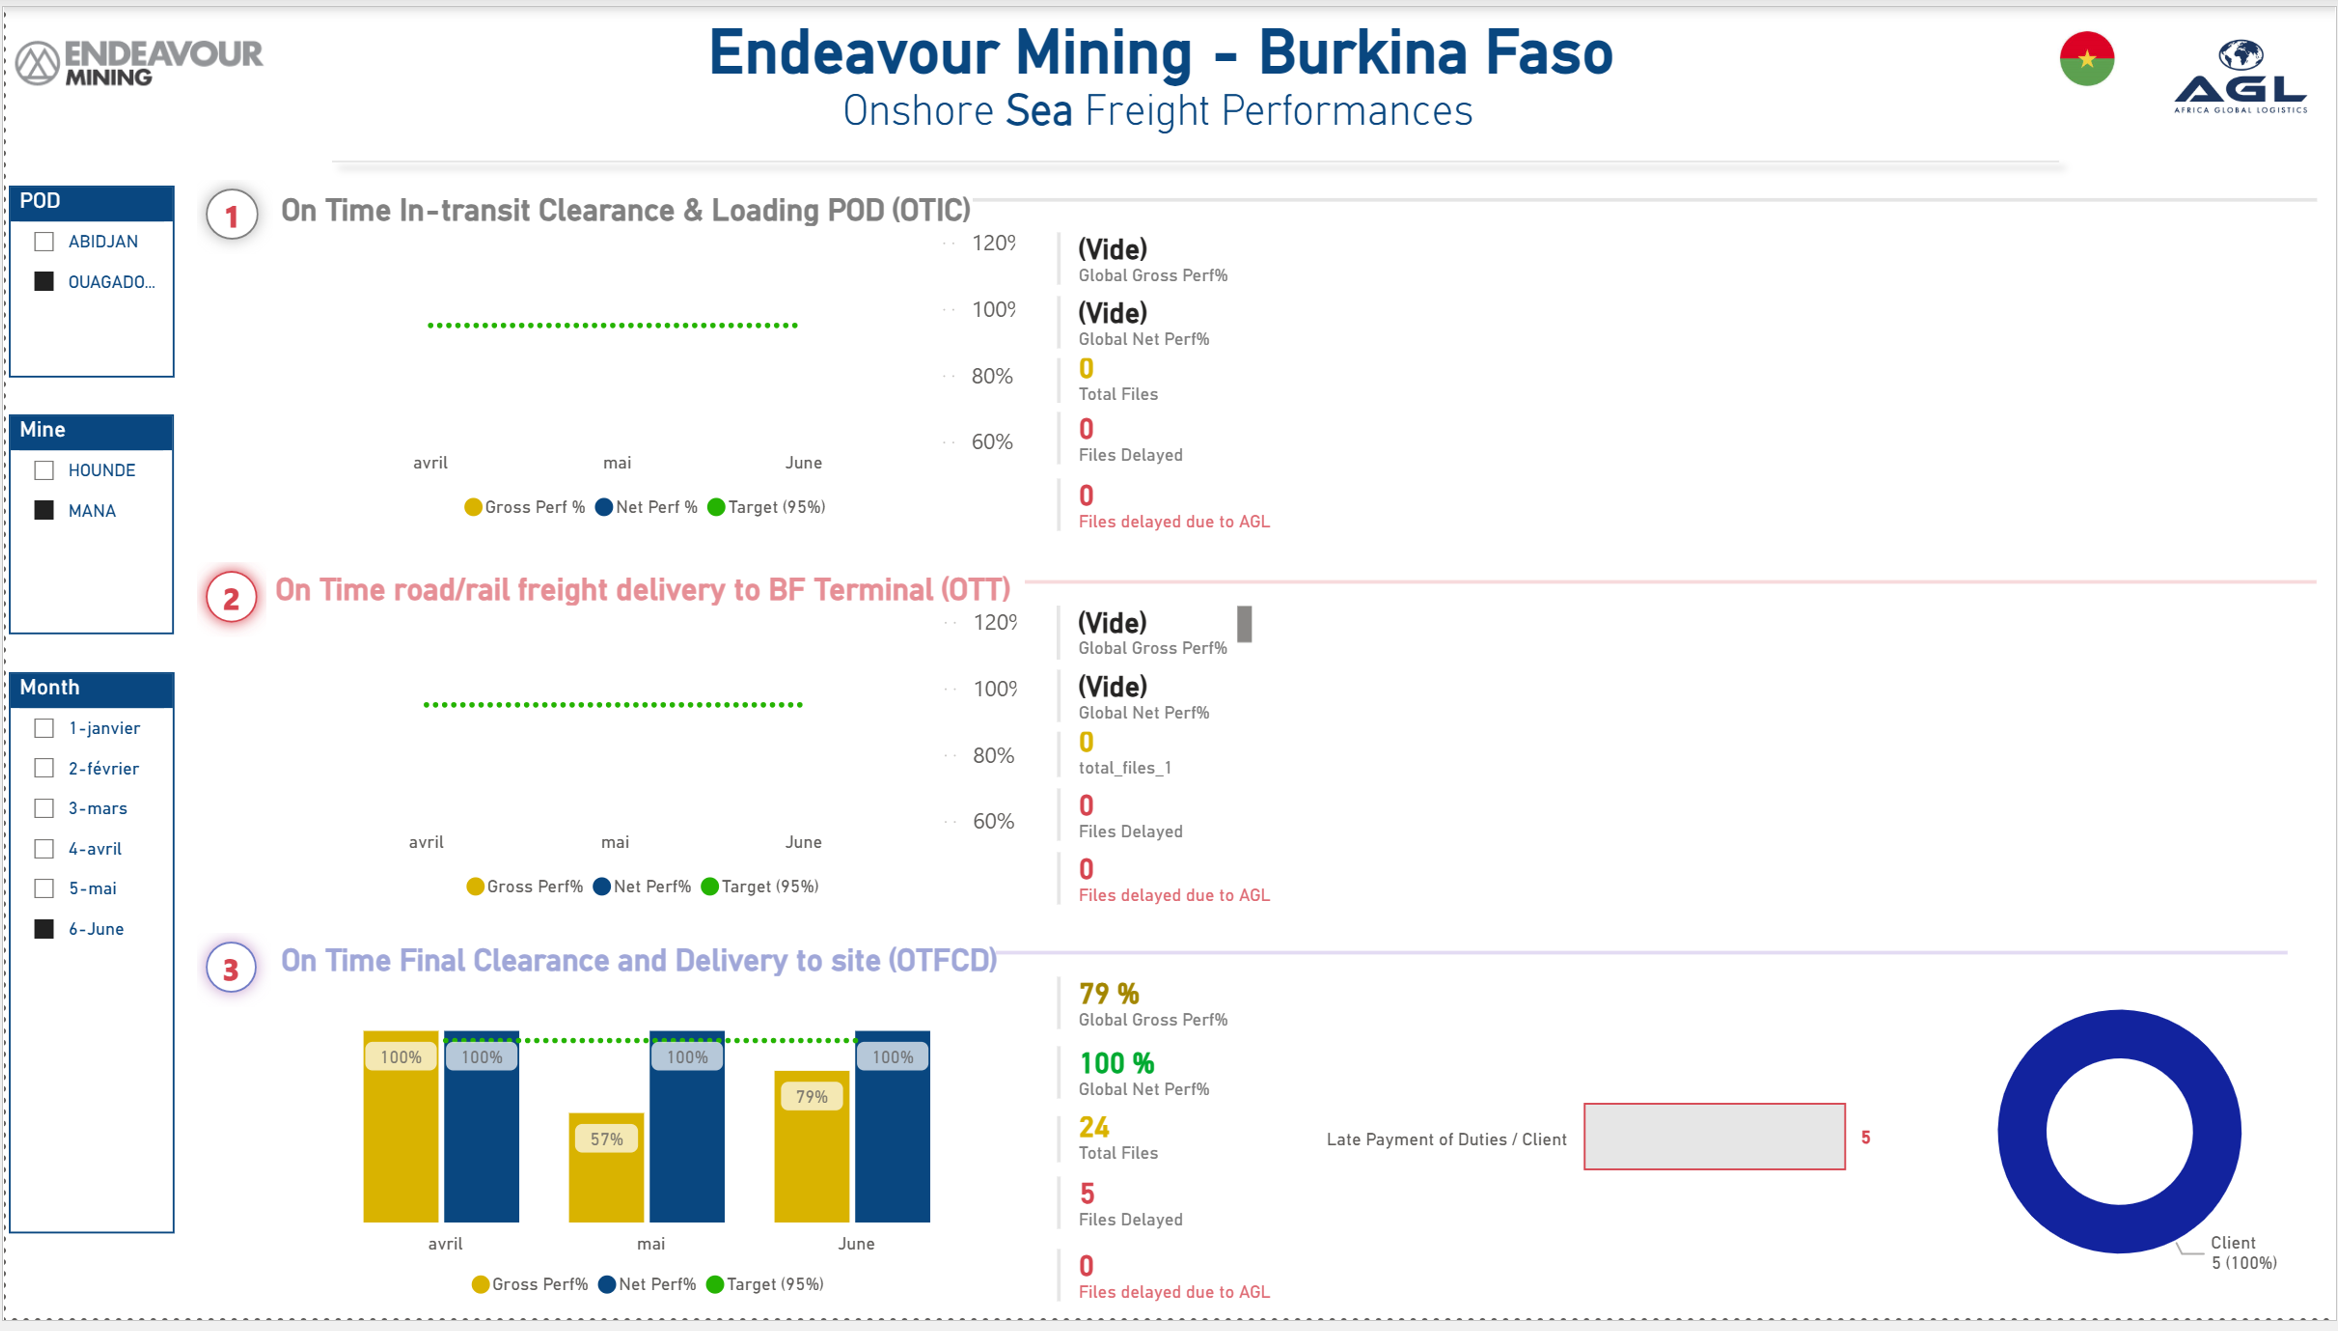

Layout of this report page (visuals, bound fields, positions):
{"tool":"powerbi","page":{"name":"(1) Sea Expéditions","canvas":[1280,720],"ordinal":1},"visuals":[{"type":"lineClusteredColumnComboChart","title":"On Time In-transit Clearance & Loading POD (OTIC)","fields":{"Category":["SeaBF.Month"],"Y":["Avg(SeaBF.Gross Perf % (In Transit))","Avg(SeaBF.Net Perf % (In Transit))"],"Y2":["mesures.target"]},"box":[145.7,101,413,191],"z":0},{"type":"multiRowCard","fields":{"Values":["mesures.total_files"]},"box":[572.2,184.6,117,38.9],"z":1000,"group":"g1"},{"type":"slicer","title":"    Month","fields":{"Values":["SeaBF.Mois_complet"]},"box":[2,365.2,91,308],"z":1000},{"type":"multiRowCard","fields":{"Values":["mesures.total_files_1"]},"box":[572.2,390.2,117,38.9],"z":1000,"group":"g2"},{"type":"multiRowCard","fields":{"Values":["mesures.total_files_3"]},"box":[572.2,600,117,43.2],"z":1000,"group":"g3"},{"type":"multiRowCard","fields":{"Values":["Avg(SeaBF.Gross Perf % (In Transit))"]},"box":[572.2,119,117,38.9],"z":2000,"group":"g1"},{"type":"slicer","title":"Mine","fields":{"Values":["SeaBF.MINE"]},"box":[1.6,224.1,90.6,120.8],"z":2000},{"type":"multiRowCard","fields":{"Values":["Avg(SeaBF.Gross Performance % 2)","Sum(air.Gross %)"]},"box":[572.2,324.5,117,38.9],"z":2000,"group":"g2"},{"type":"multiRowCard","fields":{"Values":["Avg(SeaBF.Gross Performance % 3)"]},"box":[572.2,527,117,43.2],"z":2000,"group":"g3"},{"type":"slicer","title":"POD","fields":{"Values":["SeaBF.Port of Destination"]},"box":[2,98,90.8,105.3],"z":3000},{"type":"multiRowCard","fields":{"Values":["Avg(SeaBF.Net Perf % (In Transit))"]},"box":[572.2,153.5,117,38.9],"z":3000,"group":"g1"},{"type":"multiRowCard","fields":{"Values":["Avg(SeaBF.Net Performance % 2)"]},"box":[572.2,359.1,117,38.9],"z":3000,"group":"g2"},{"type":"multiRowCard","fields":{"Values":["Avg(SeaBF.Net Performance % 3)"]},"box":[572.2,565.4,117,43.2],"z":3000,"group":"g3"},{"type":"clusteredBarChart","fields":{"Category":["SeaBF.Reason for delay1"],"Y":["CountNonNull(SeaBF.Reason for delay1)"]},"box":[719.3,99,311,191],"z":4000},{"type":"multiRowCard","fields":{"Values":["mesures.gross_fail_1"]},"box":[572.2,218.3,117,38.9],"z":4000,"group":"g1"},{"type":"multiRowCard","fields":{"Values":["mesures.gross_fail_2"]},"box":[572.2,423.9,117,38.9],"z":4000,"group":"g2"},{"type":"multiRowCard","fields":{"Values":["mesures.gross_fail_3"]},"box":[572.2,637.4,117,43.2],"z":4000,"group":"g3"},{"type":"donutChart","fields":{"Category":["SeaBF.Delay Responsibility"],"Y":["CountNonNull(SeaBF.Delay Responsibility)"]},"box":[1043,101,236.4,191.1],"z":5000},{"type":"multiRowCard","fields":{"Values":["mesures.net_fail_1"]},"box":[572.2,253.7,129.6,38.9],"z":5000,"group":"g1"},{"type":"multiRowCard","fields":{"Values":["mesures.net_fail_2"]},"box":[572.2,459.4,129.6,38.9],"z":5000,"group":"g2"},{"type":"multiRowCard","fields":{"Values":["mesures.net_fail_3"]},"box":[572.2,676.8,129.6,43.2],"z":5000,"group":"g3"},{"type":"shape","box":[101,92,45,44],"z":6000},{"type":"shape","box":[101,302,44.4,44.4],"z":7000},{"type":"shape","box":[101,504.6,44,44],"z":8000},{"type":"group","id":"g1","title":"Groupe 1","box":[572.2,119,129.6,175.7],"z":9000},{"type":"lineClusteredColumnComboChart","title":"On Time road/rail freight delivery to BF Terminal  (OTT)","fields":{"Category":["SeaBF.Month"],"Y2":["mesures.target"],"Y":["Avg(SeaBF.Gross Performance % 2)","Avg(SeaBF.Net Performance % 2)"]},"box":[143.7,310,417,191],"z":10000},{"type":"group","id":"g2","title":"Groupe 1","box":[572.2,324.5,129.6,173.8],"z":11000},{"type":"clusteredBarChart","fields":{"Category":["SeaBF.Reason for delay2"],"Y":["CountNonNull(SeaBF.Reason for delay2)"]},"box":[718.8,310,312,191],"z":12000},{"type":"donutChart","fields":{"Category":["SeaBF.Delay Responsibility 2"],"Y":["CountNonNull(SeaBF.Delay Responsibility 2)"]},"box":[1043.2,309.3,236,191],"z":13000},{"type":"lineClusteredColumnComboChart","title":"On Time Final Clearance and Delivery to site  (OTFCD)","fields":{"Category":["SeaBF.Month"],"Y2":["mesures.target"],"Y":["Avg(SeaBF.Gross Performance % 3)","Avg(SeaBF.Net Performance % 3)"]},"box":[146.9,514.2,416.2,205.8],"z":14000},{"type":"group","id":"g3","title":"Groupe 1","box":[572.2,527,129.6,193],"z":15000},{"type":"clusteredBarChart","fields":{"Category":["SeaBF.Reasons for Delay 3"],"Y":["CountNonNull(SeaBF.Reasons for Delay 3)"]},"box":[719,514.6,312,205.4],"z":16000},{"type":"donutChart","fields":{"Category":["SeaBF.Delay Responsibility3"],"Y":["CountNonNull(SeaBF.Delay Responsibility3)"]},"box":[1042.6,514.6,236.2,205.4],"z":17000},{"type":"textbox","box":[169,0,941,79],"z":18000},{"type":"image","box":[0,0,146.7,62.5],"z":19000},{"type":"image","box":[1176.5,3.6,103.2,70.6],"z":20000},{"type":"image","box":[1118.5,3.6,48,51.6],"z":21000},{"type":"shape","box":[169.4,77,966.3,18.1],"z":22000},{"type":"shape","box":[530.9,100.8,738.2,12.5],"z":23000},{"type":"shape","box":[558.7,309.1,709.4,15.4],"z":24000},{"type":"shape","box":[544.3,511.7,709.4,15.4],"z":25000}]}

Visuals, with their boxes in screenshot pixels (x1, y1, x2, y2), scaled from the page's 1280x720 canvas onto the 2338x1331 screenshot:
"On Time In-transit Clearance & Loading POD (OTIC)" lineClusteredColumnComboChart: x1=266, y1=187, x2=1021, y2=540
multiRowCard - mesures.total_files: x1=1045, y1=341, x2=1259, y2=413
"    Month" slicer: x1=4, y1=675, x2=170, y2=1244
multiRowCard - mesures.total_files_1: x1=1045, y1=721, x2=1259, y2=793
multiRowCard - mesures.total_files_3: x1=1045, y1=1109, x2=1259, y2=1189
multiRowCard - Avg(SeaBF.Gross Perf % (In Transit)): x1=1045, y1=220, x2=1259, y2=292
"Mine" slicer: x1=3, y1=414, x2=168, y2=638
multiRowCard - Avg(SeaBF.Gross Performance % 2) x Sum(air.Gross %): x1=1045, y1=600, x2=1259, y2=672
multiRowCard - Avg(SeaBF.Gross Performance % 3): x1=1045, y1=974, x2=1259, y2=1054
"POD" slicer: x1=4, y1=181, x2=170, y2=376
multiRowCard - Avg(SeaBF.Net Perf % (In Transit)): x1=1045, y1=284, x2=1259, y2=356
multiRowCard - Avg(SeaBF.Net Performance % 2): x1=1045, y1=664, x2=1259, y2=736
multiRowCard - Avg(SeaBF.Net Performance % 3): x1=1045, y1=1045, x2=1259, y2=1125
clusteredBarChart - SeaBF.Reason for delay1 x CountNonNull(SeaBF.Reason for delay1): x1=1314, y1=183, x2=1882, y2=536
multiRowCard - mesures.gross_fail_1: x1=1045, y1=404, x2=1259, y2=475
multiRowCard - mesures.gross_fail_2: x1=1045, y1=784, x2=1259, y2=856
multiRowCard - mesures.gross_fail_3: x1=1045, y1=1178, x2=1259, y2=1258
donutChart - SeaBF.Delay Responsibility x CountNonNull(SeaBF.Delay Responsibility): x1=1905, y1=187, x2=2337, y2=540
multiRowCard - mesures.net_fail_1: x1=1045, y1=469, x2=1282, y2=541
multiRowCard - mesures.net_fail_2: x1=1045, y1=849, x2=1282, y2=921
multiRowCard - mesures.net_fail_3: x1=1045, y1=1251, x2=1282, y2=1330
shape: x1=184, y1=170, x2=267, y2=251
shape: x1=184, y1=558, x2=266, y2=640
shape: x1=184, y1=933, x2=265, y2=1014
"Groupe 1" group: x1=1045, y1=220, x2=1282, y2=545
"On Time road/rail freight delivery to BF Terminal  (OTT)" lineClusteredColumnComboChart: x1=262, y1=573, x2=1024, y2=926
"Groupe 1" group: x1=1045, y1=600, x2=1282, y2=921
clusteredBarChart - SeaBF.Reason for delay2 x CountNonNull(SeaBF.Reason for delay2): x1=1313, y1=573, x2=1883, y2=926
donutChart - SeaBF.Delay Responsibility 2 x CountNonNull(SeaBF.Delay Responsibility 2): x1=1905, y1=572, x2=2337, y2=925
"On Time Final Clearance and Delivery to site  (OTFCD)" lineClusteredColumnComboChart: x1=268, y1=951, x2=1029, y2=1330
"Groupe 1" group: x1=1045, y1=974, x2=1282, y2=1330
clusteredBarChart - SeaBF.Reasons for Delay 3 x CountNonNull(SeaBF.Reasons for Delay 3): x1=1313, y1=951, x2=1883, y2=1330
donutChart - SeaBF.Delay Responsibility3 x CountNonNull(SeaBF.Delay Responsibility3): x1=1904, y1=951, x2=2336, y2=1330
textbox: x1=309, y1=0, x2=2027, y2=146
image: x1=0, y1=0, x2=268, y2=116
image: x1=2149, y1=7, x2=2337, y2=137
image: x1=2043, y1=7, x2=2131, y2=102
shape: x1=309, y1=142, x2=2074, y2=176
shape: x1=970, y1=186, x2=2318, y2=209
shape: x1=1021, y1=571, x2=2316, y2=600
shape: x1=994, y1=946, x2=2290, y2=974
